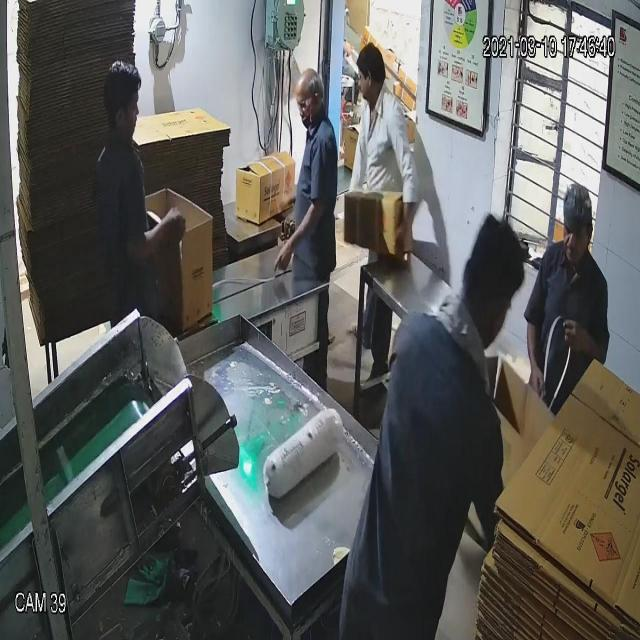No_Gloves: (34, 78, 588, 354)
